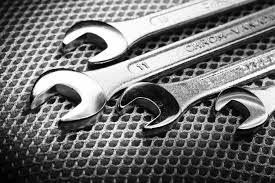wrench: (27, 3, 274, 131), (115, 45, 274, 133), (60, 0, 255, 68), (212, 80, 274, 134)
